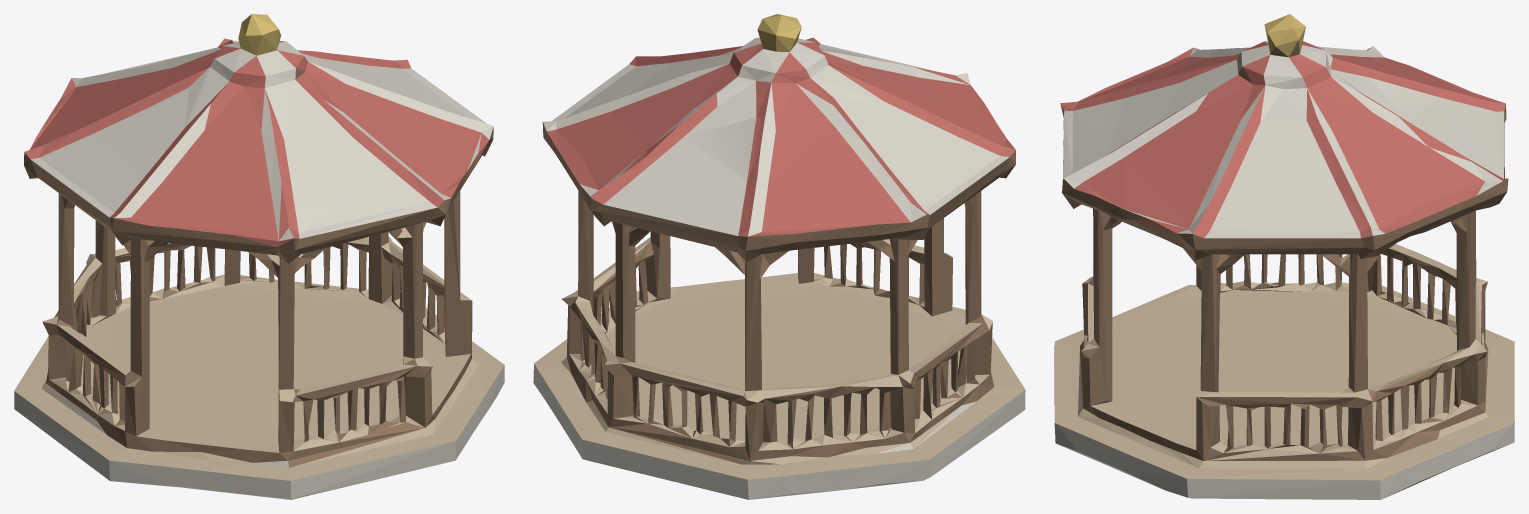
3 renders of one model, left to right at view 1: azimuth 30°, elevation 25°; view 2: azimuth 150°, elevation 25°; view 3: azimuth 270°, elevation 25°, orthographic.
Visible parts, largest first — view 1: geometry_0; view 2: geometry_0; view 3: geometry_0.
Boxes of the visible parts, x1=… form: geometry_0: x1=14, y1=14, x2=504, y2=499; geometry_0: x1=533, y1=14, x2=1025, y2=499; geometry_0: x1=1054, y1=14, x2=1514, y2=499.
Bounding box in the file's own units: 0.9989 × 0.9254 × 0.999.
